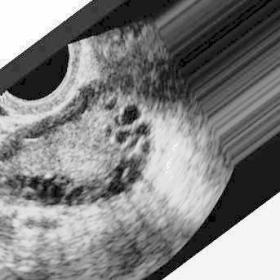PCOS: (118, 104, 144, 121), (41, 173, 57, 198), (66, 184, 84, 206), (126, 166, 144, 183), (29, 175, 42, 191), (106, 181, 119, 197), (111, 163, 128, 175), (116, 129, 128, 144), (137, 122, 150, 134), (52, 184, 62, 199), (142, 142, 152, 153)
